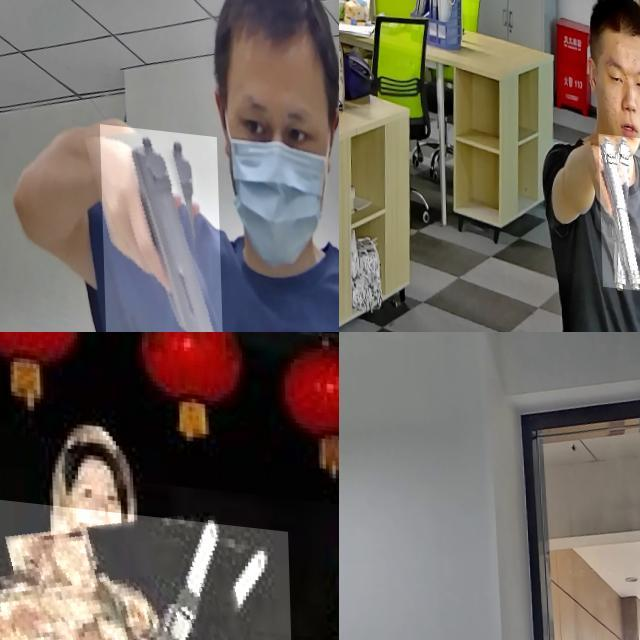gun-knife-thesis - v11 Yolov5 augmented: (0, 494, 296, 640), (98, 119, 221, 332), (339, 332, 383, 509), (595, 125, 640, 282)
